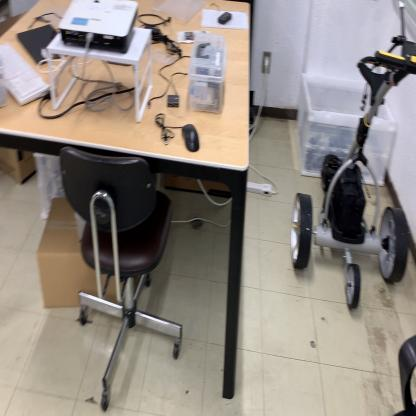chair: (57, 142, 186, 411)
